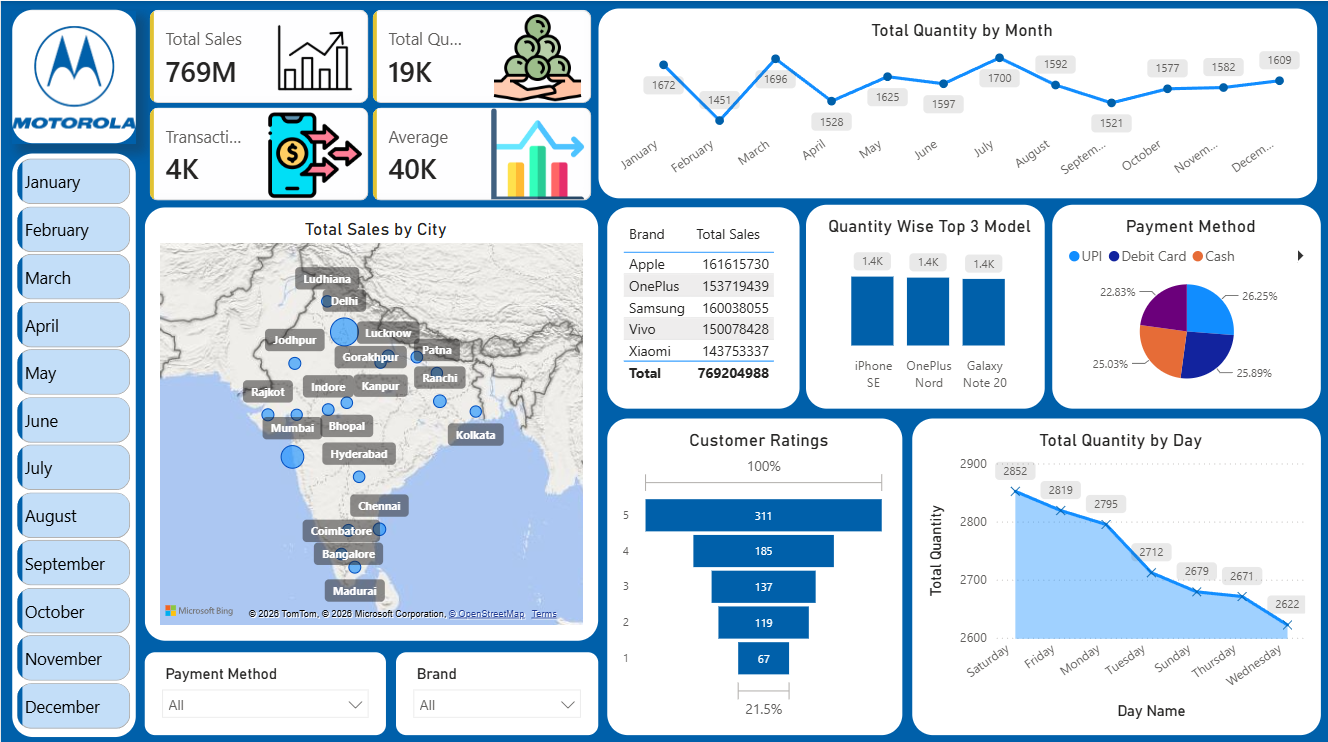

Layout of this report page (visuals, bound fields, positions):
{"tool":"powerbi","page":{"name":"Dashboard 2","canvas":[1280,720],"ordinal":1},"visuals":[{"type":"shape","box":[10.9,8.4,119.4,129.1],"z":0},{"type":"image","box":[10.9,9.7,119.4,127.9],"z":1000},{"type":"shape","box":[10.9,147.2,119.4,563.4],"z":2000},{"type":"advancedSlicerVisual","fields":{"Values":["Sales_Data.Date.Variation.Date Hierarchy.Month"]},"box":[10.9,152,119.4,556.2],"z":3000},{"type":"cardVisual","fields":{"Data":["Sales_Data.Total sales","Sales_Data.Total Quantity","Sales_Data.Transactions","Sales_Data.Average"]},"box":[138.7,3.6,437.9,195.4],"z":4000},{"type":"map","fields":{"Category":["Sales_Data.City"],"Size":["Sales_Data.Total Sales"]},"box":[138.7,199.1,437.9,418.6],"z":5000},{"type":"lineChart","fields":{"Category":["Sales_Data.Date.Variation.Date Hierarchy.Month","Sales_Data.Date.Variation.Date Hierarchy.Day"],"Y":["Sales_Data.Total Quantity"]},"box":[576.7,7.2,693.7,183.4],"z":6000},{"type":"columnChart","title":"Quantity Wise Top 3 Model","fields":{"Category":["Sales_Data.Mobile Model"],"Y":["Sales_Data.Total Quantity"]},"box":[776.9,196.6,230.4,196.6],"z":7000},{"type":"pieChart","title":"Payment Method","fields":{"Category":["Sales_Data.Payment Method"],"Y":["Sales_Data.Transactions"]},"box":[1014.6,196.6,259.4,196.6],"z":8000},{"type":"funnel","title":"Customer Ratings","fields":{"Category":["Sales_Data.Customer Ratings"],"Y":["CountNonNull(Sales_Data.Customer Ratings)"]},"box":[585.1,403,284.7,305.2],"z":9000},{"type":"areaChart","title":"Total Quantity by Day","fields":{"Category":["Sales_Data.Day Name"],"Y":["Sales_Data.Total Quantity"]},"box":[879.5,403,394.5,305.2],"z":10000},{"type":"tableEx","fields":{"Values":["Sales_Data.Brand","Sales_Data.Total Sales"]},"box":[585.1,199.1,185.8,194.2],"z":11000},{"type":"slicer","fields":{"Values":["Sales_Data.Payment Method"]},"box":[138.7,628.6,232.8,79.6],"z":12000},{"type":"slicer","fields":{"Values":["Sales_Data.Brand"]},"box":[381.2,628.6,195.4,79.6],"z":13000}]}

Visuals, with their boxes in screenshot pixels (x1, y1, x2, y2), scaled from the page's 1280x720 canvas onto the 1328x742 screenshot:
shape: 11 9 135 142
image: 11 10 135 142
shape: 11 152 135 732
advancedSlicerVisual - Sales_Data.Date.Variation.Date Hierarchy.Month: 11 157 135 730
cardVisual - Sales_Data.Total sales x Sales_Data.Total Quantity: 144 4 598 205
map - Sales_Data.City x Sales_Data.Total Sales: 144 205 598 637
lineChart - Sales_Data.Date.Variation.Date Hierarchy.Month x Sales_Data.Date.Variation.Date Hierarchy.Day: 598 7 1318 196
"Quantity Wise Top 3 Model" columnChart: 806 203 1045 405
"Payment Method" pieChart: 1053 203 1322 405
"Customer Ratings" funnel: 607 415 902 730
"Total Quantity by Day" areaChart: 912 415 1322 730
tableEx - Sales_Data.Brand x Sales_Data.Total Sales: 607 205 800 405
slicer - Sales_Data.Payment Method: 144 648 385 730
slicer - Sales_Data.Brand: 395 648 598 730
